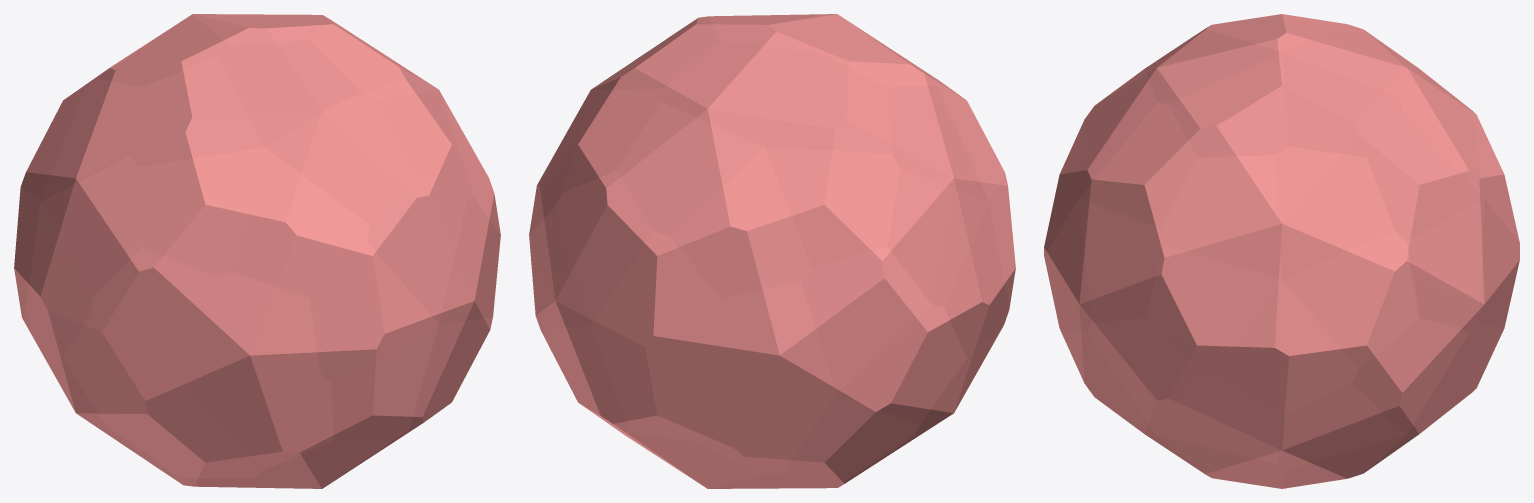
File: BiscribedPentagonalHexecontahedron.obj
3 views of the same model, side by side, from view 1: azimuth 30°, elevation 25°; view 2: azimuth 150°, elevation 25°; view 3: azimuth 270°, elevation 25° (orthographic). The views are drawn at different scales.
Bounding box in the file's own units: 2 × 2 × 2.
